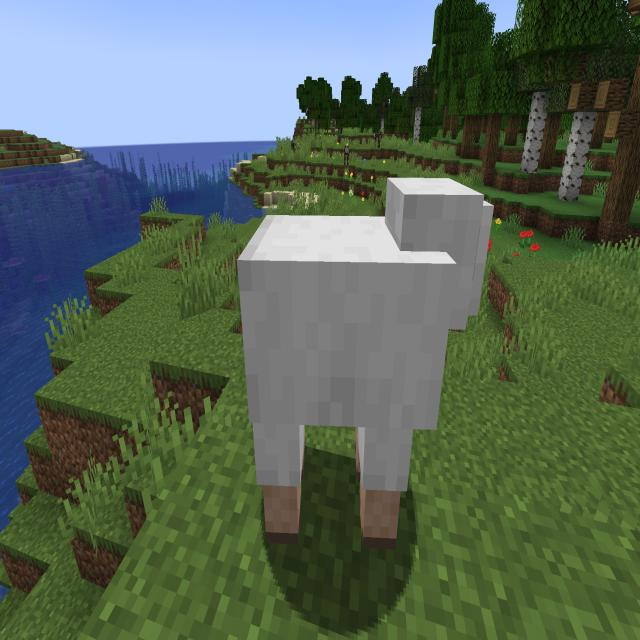cow: (341, 140, 353, 174), (372, 124, 388, 148)
